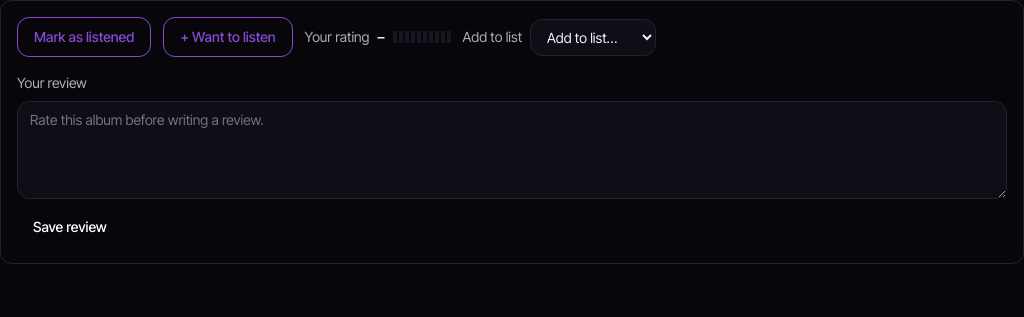
Scenario: AlbumActions — want to listen › surfaces the API's message when marking fails, and does not refresh
Click the button "+ Want to listen" at [228, 37], box [163, 17, 292, 57]
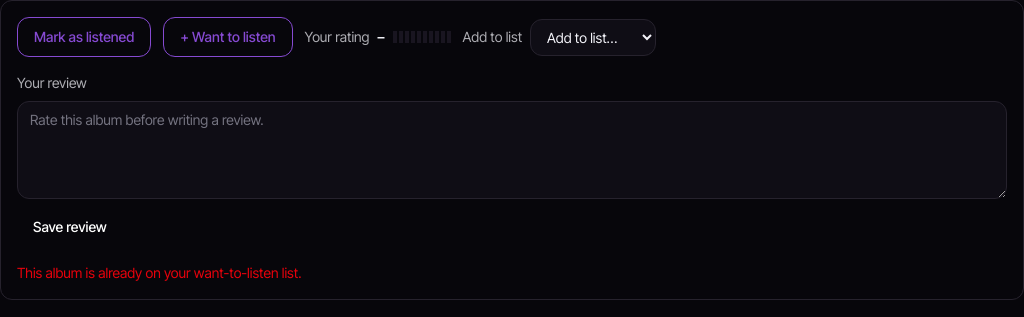
Now the message reads "This album is already on your want-to-listen list.", box [17, 264, 302, 281]
